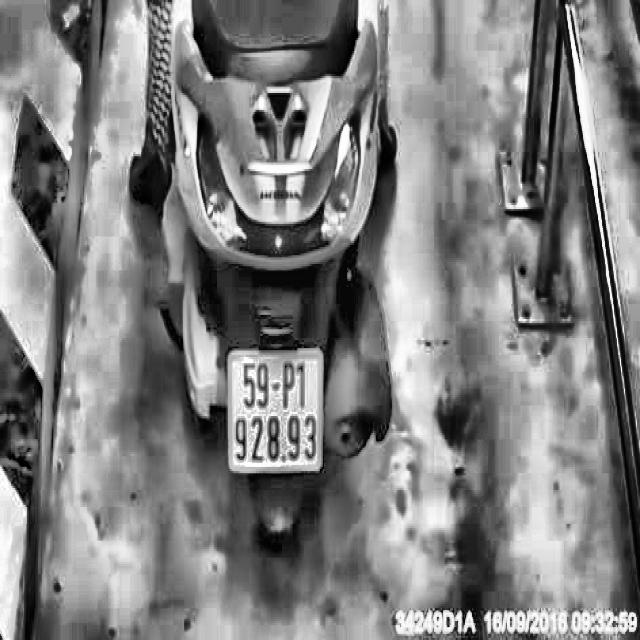plate: (222, 339, 328, 481)
